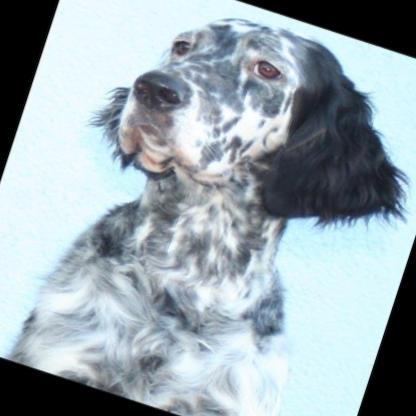English_setter: (3, 0, 416, 416)
